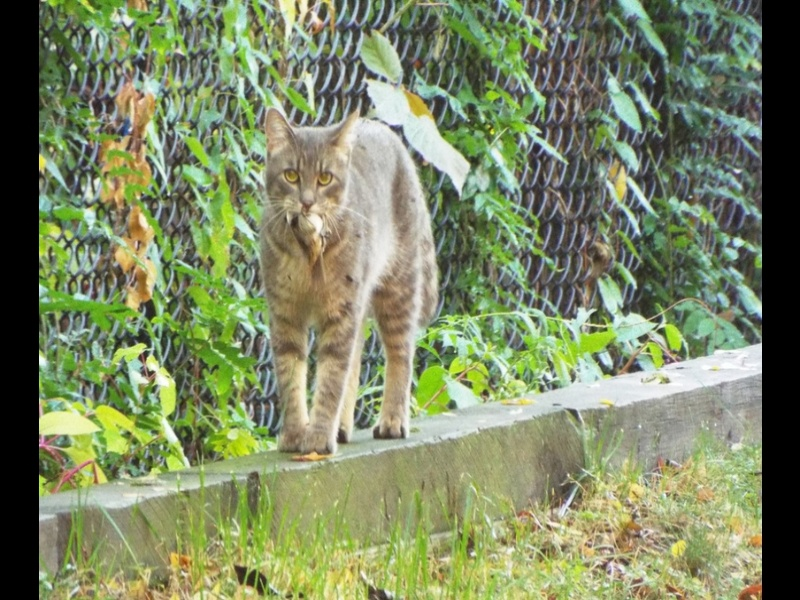cat: (253, 102, 448, 458)
